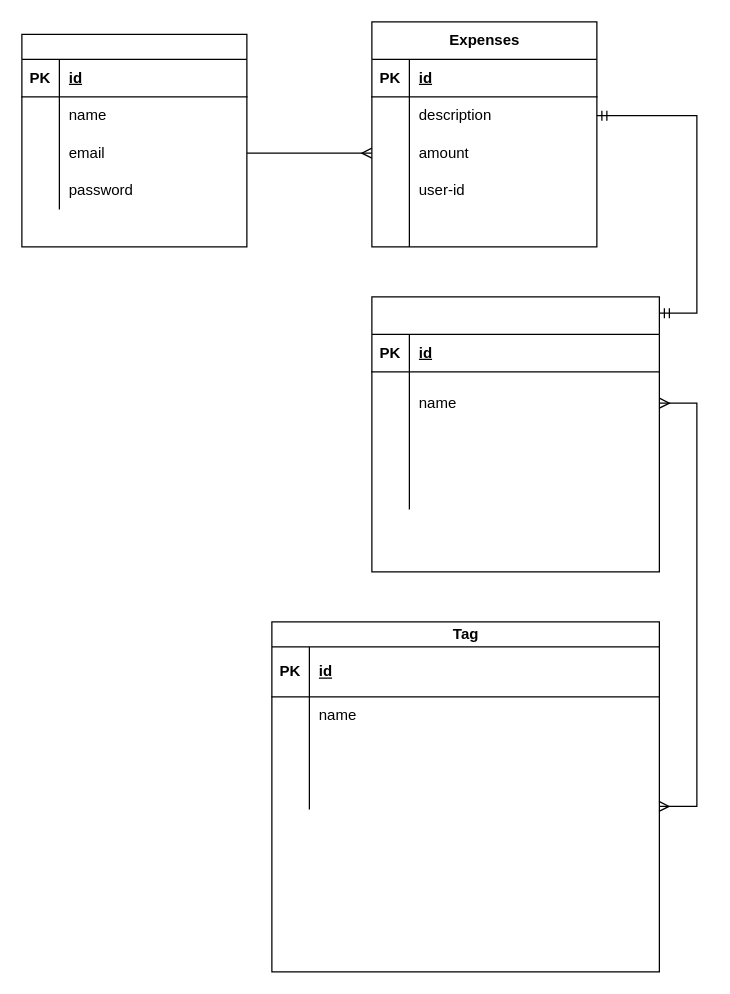
Some shapes in this 730 by 994 pixel diagram are drawn without their labels. The box of each missing label's shape, as (x1, y1, x2, y2) in pixels:
category: (371, 296, 659, 572)
User: (21, 33, 247, 247)
